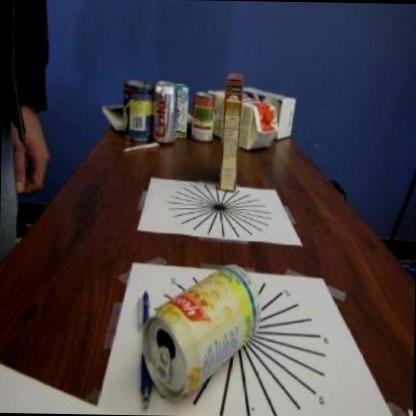alumunium_can: (141, 259, 264, 405), (150, 78, 178, 144)
